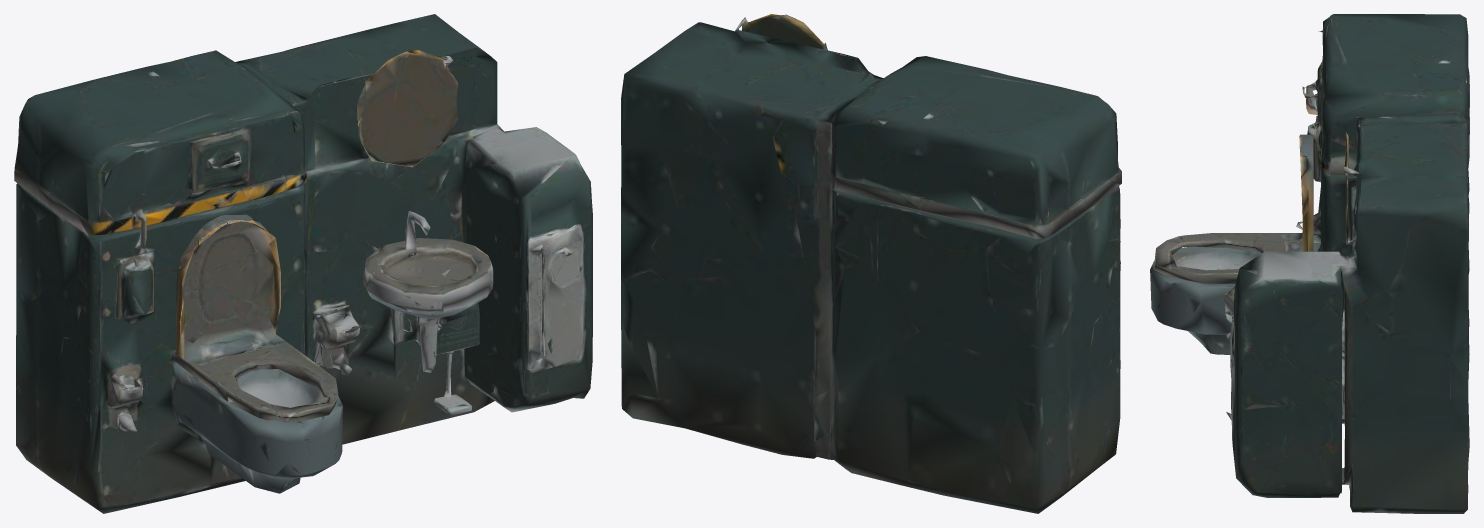
Rendered from head_unit.glb.
3 renders of one model, left to right at view 1: azimuth 30°, elevation 25°; view 2: azimuth 150°, elevation 25°; view 3: azimuth 270°, elevation 25°, orthographic. The views are drawn at different scales.
Size of the model in its own units: 1.9 by 1.51 by 1.28.
Materials: 1 (1 with a texture image).
